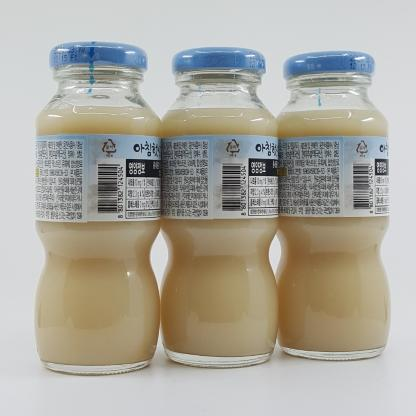------180ML: (34, 41, 161, 375), (158, 47, 278, 368), (272, 51, 391, 360)
